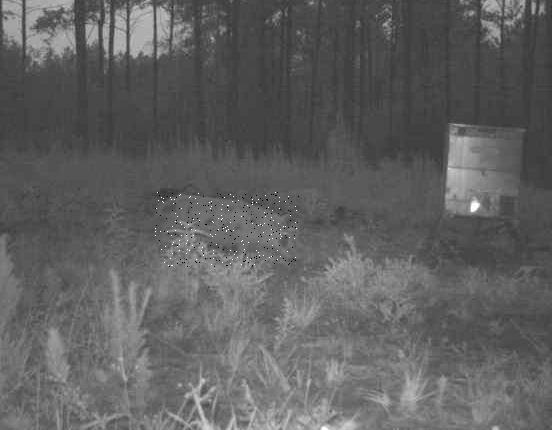Hog: (155, 193, 299, 268)
